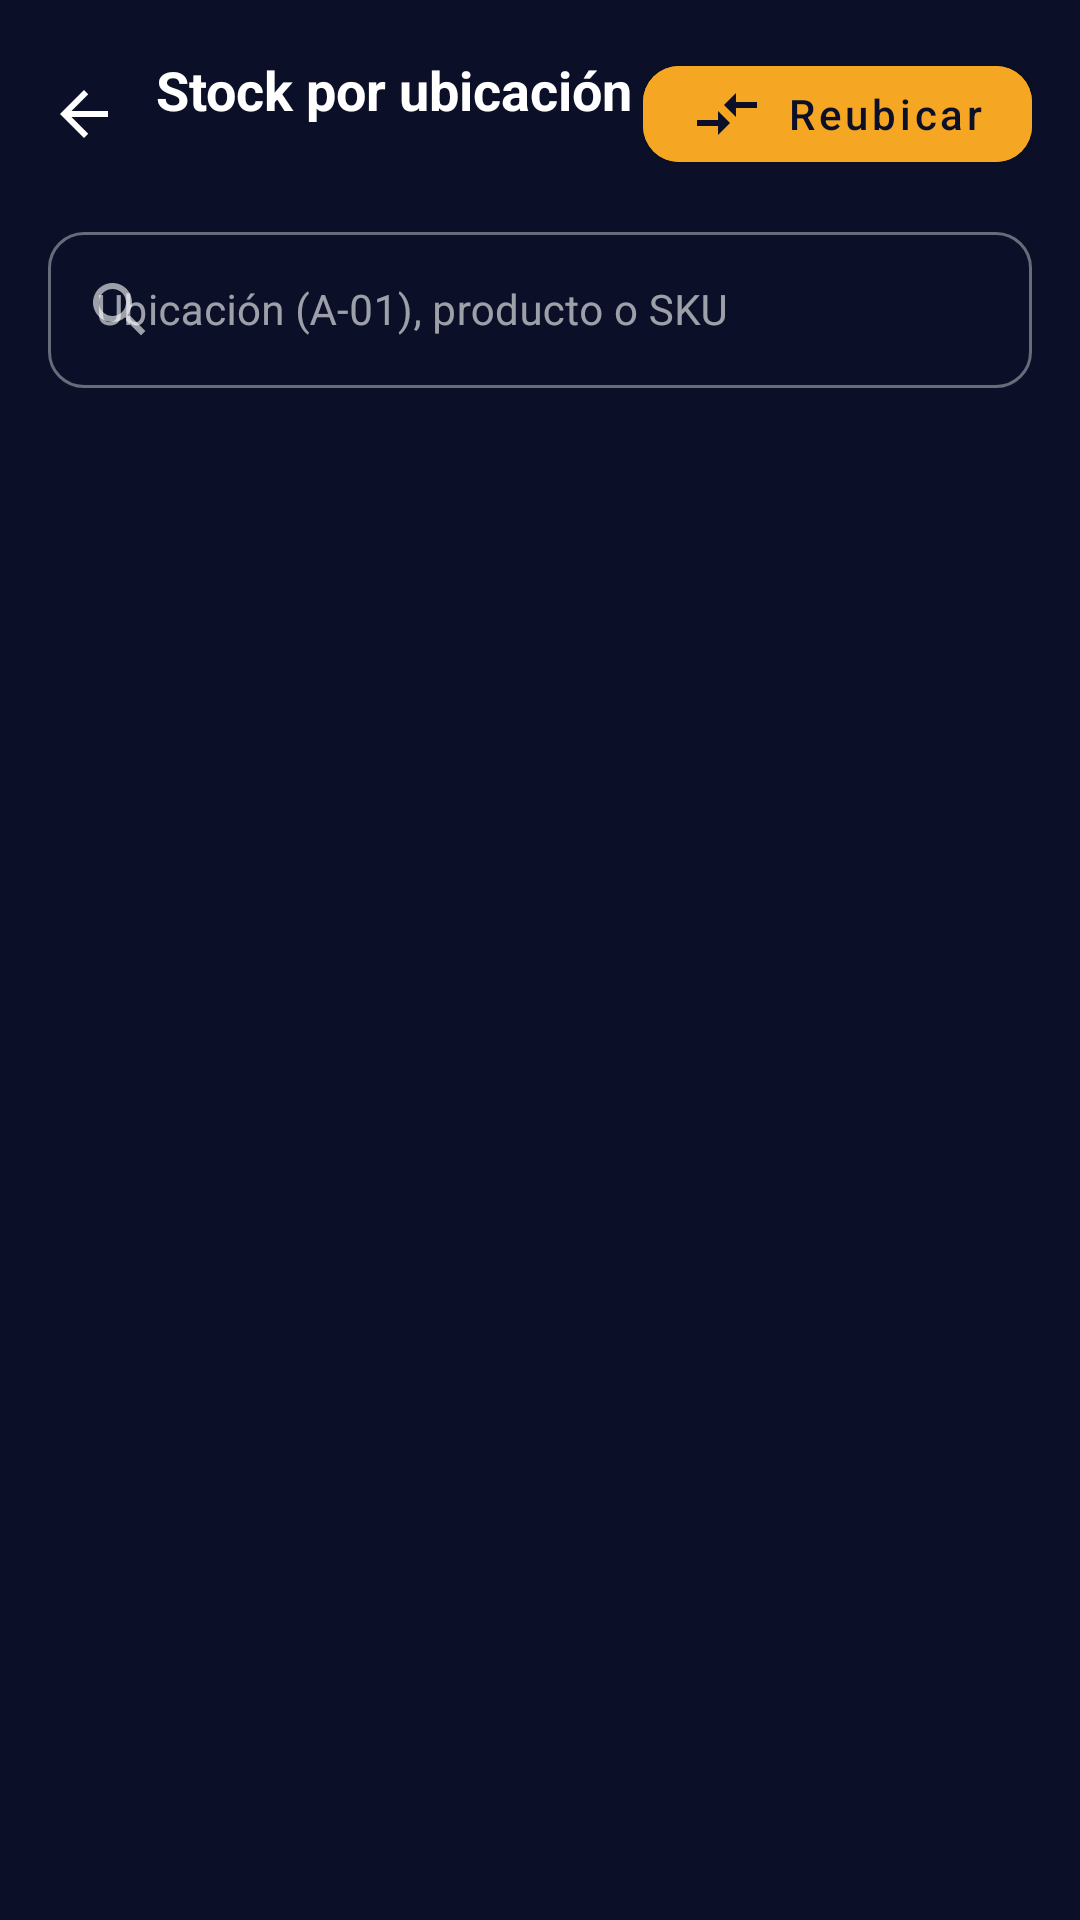

Icons on this 1080px x 1920px Android screen, each with the point to tap as (x,y):
Volver: (84,114)
